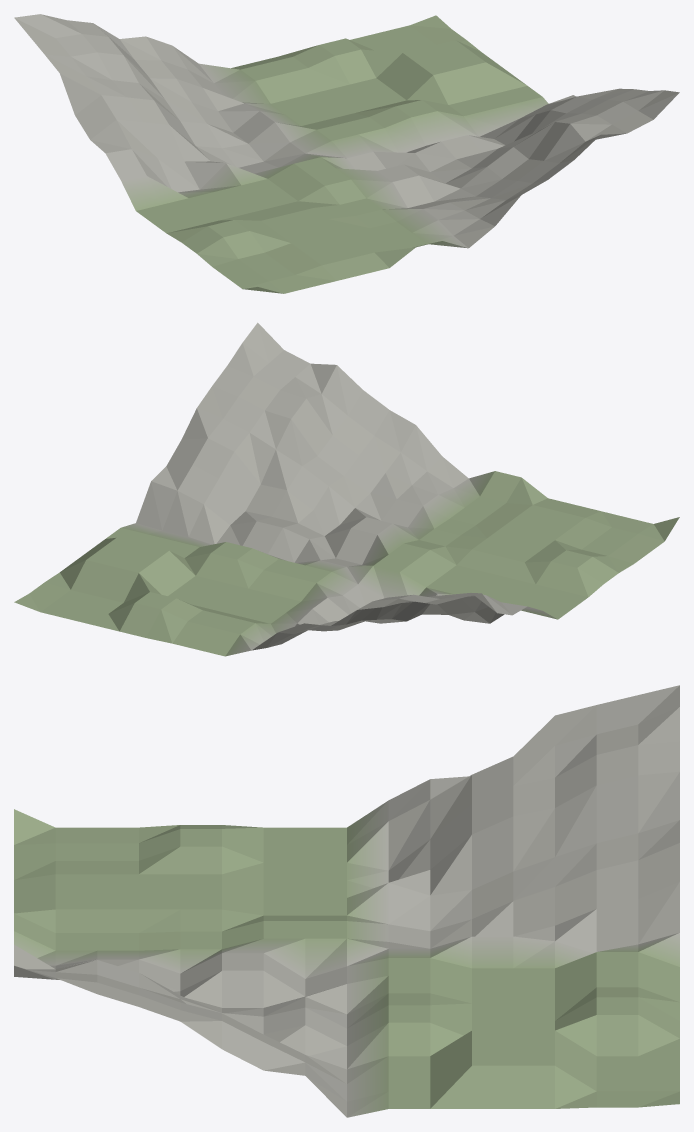
The picture shows the model from 3 angles, top to bottom: view 1: azimuth 30°, elevation 25°; view 2: azimuth 150°, elevation 25°; view 3: azimuth 270°, elevation 25°; orthographic projection. The views are drawn at different scales.
Bounding box in the file's own units: 32 × 8.43 × 32.
